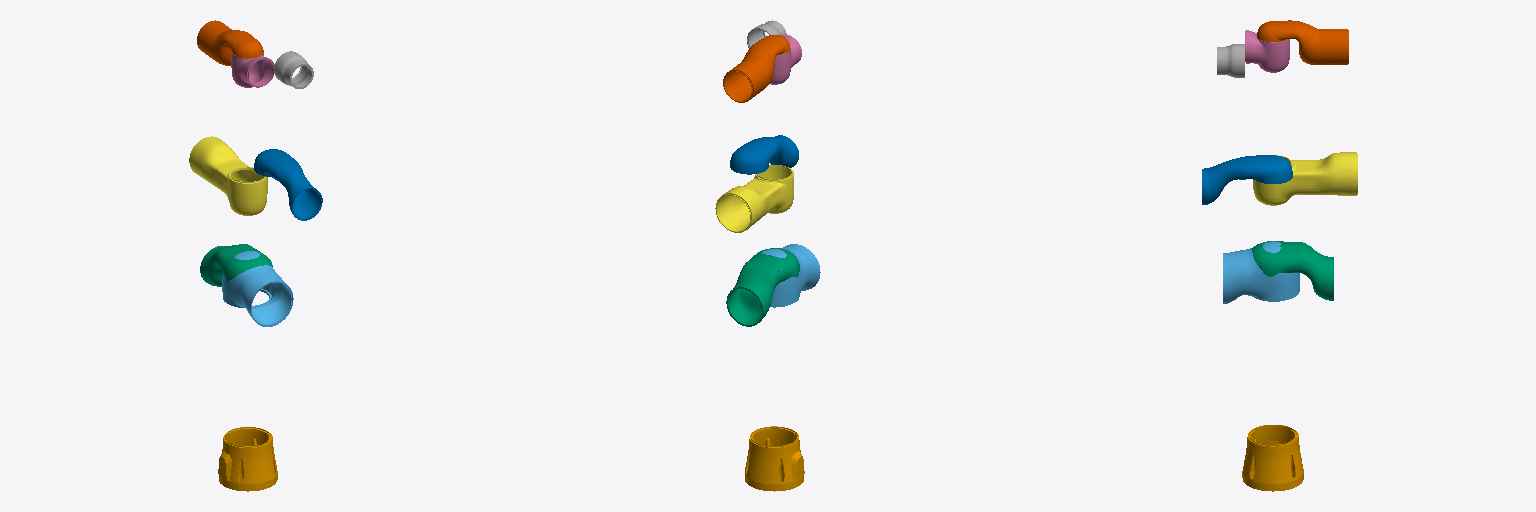
The robot description file, URDF, robot "panda":
<?xml version="1.0" ?>
<!-- =================================================================================== -->
<!-- |    This document was autogenerated by xacro from /opt/ros/kinetic/share/moveit_resources/panda_description/urdf/panda.urdf | -->
<!-- |    EDITING THIS FILE BY HAND IS NOT RECOMMENDED                                 | -->
<!-- =================================================================================== -->
<robot name="panda" xmlns:xacro="http://www.ros.org/wiki/xacro">
    <link name="panda_link0">
        <visual>
            <geometry>
                <mesh filename="package://moveit_resources_panda_description/meshes/visual/link0.dae" />
            </geometry>
        </visual>
        <collision>
            <geometry>
                <mesh filename="package://moveit_resources_panda_description/meshes/collision/link0.stl" />
            </geometry>
        </collision>
    </link>
    <link name="panda_link1">
        <visual>
            <geometry>
                <mesh filename="package://moveit_resources_panda_description/meshes/visual/link1.dae" />
            </geometry>
        </visual>
        <collision>
            <geometry>
                <mesh filename="package://moveit_resources_panda_description/meshes/collision/link1.stl" />
            </geometry>
        </collision>
    </link>
    <joint name="panda_joint1" type="revolute">
        <safety_controller k_position="100.0" k_velocity="40.0" soft_lower_limit="-2.8973" soft_upper_limit="2.8973" />
        <origin rpy="0 0 0" xyz="0 0 0.333" />
        <parent link="panda_link0" />
        <child link="panda_link1" />
        <axis xyz="0 0 1" />
        <limit effort="87" lower="-2.9671" upper="2.9671" velocity="2.3925" />
    </joint>
    <link name="panda_link2">
        <visual>
            <geometry>
                <mesh filename="package://moveit_resources_panda_description/meshes/visual/link2.dae" />
            </geometry>
        </visual>
        <collision>
            <geometry>
                <mesh filename="package://moveit_resources_panda_description/meshes/collision/link2.stl" />
            </geometry>
        </collision>
    </link>
    <joint name="panda_joint2" type="revolute">
        <safety_controller k_position="100.0" k_velocity="40.0" soft_lower_limit="-1.7628" soft_upper_limit="1.7628" />
        <origin rpy="-1.57079632679 0 0" xyz="0 0 0" />
        <parent link="panda_link1" />
        <child link="panda_link2" />
        <axis xyz="0 0 1" />
        <limit effort="87" lower="-1.8326" upper="1.8326" velocity="2.3925" />
    </joint>
    <link name="panda_link3">
        <visual>
            <geometry>
                <mesh filename="package://moveit_resources_panda_description/meshes/visual/link3.dae" />
            </geometry>
        </visual>
        <collision>
            <geometry>
                <mesh filename="package://moveit_resources_panda_description/meshes/collision/link3.stl" />
            </geometry>
        </collision>
    </link>
    <joint name="panda_joint3" type="revolute">
        <safety_controller k_position="100.0" k_velocity="40.0" soft_lower_limit="-2.8973" soft_upper_limit="2.8973" />
        <origin rpy="1.57079632679 0 0" xyz="0 -0.316 0" />
        <parent link="panda_link2" />
        <child link="panda_link3" />
        <axis xyz="0 0 1" />
        <limit effort="87" lower="-2.9671" upper="2.9671" velocity="2.3925" />
    </joint>
    <link name="panda_link4">
        <visual>
            <geometry>
                <mesh filename="package://moveit_resources_panda_description/meshes/visual/link4.dae" />
            </geometry>
        </visual>
        <collision>
            <geometry>
                <mesh filename="package://moveit_resources_panda_description/meshes/collision/link4.stl" />
            </geometry>
        </collision>
    </link>
    <joint name="panda_joint4" type="revolute">
        <safety_controller k_position="100.0" k_velocity="40.0" soft_lower_limit="-3.0718" soft_upper_limit="0.0175" />
        <origin rpy="1.57079632679 0 0" xyz="0.0825 0 0" />
        <parent link="panda_link3" />
        <child link="panda_link4" />
        <axis xyz="0 0 1" />
        <limit effort="87" lower="-3.1416" upper="0.0873" velocity="2.3925" />
    </joint>
    <link name="panda_link5">
        <visual>
            <geometry>
                <mesh filename="package://moveit_resources_panda_description/meshes/visual/link5.dae" />
            </geometry>
        </visual>
        <collision>
            <geometry>
                <mesh filename="package://moveit_resources_panda_description/meshes/collision/link5.stl" />
            </geometry>
        </collision>
    </link>
    <joint name="panda_joint5" type="revolute">
        <safety_controller k_position="100.0" k_velocity="40.0" soft_lower_limit="-2.8973" soft_upper_limit="2.8973" />
        <origin rpy="-1.57079632679 0 0" xyz="-0.0825 0.384 0" />
        <parent link="panda_link4" />
        <child link="panda_link5" />
        <axis xyz="0 0 1" />
        <limit effort="12" lower="-2.9671" upper="2.9671" velocity="2.8710" />
    </joint>
    <link name="panda_link6">
        <visual>
            <geometry>
                <mesh filename="package://moveit_resources_panda_description/meshes/visual/link6.dae" />
            </geometry>
        </visual>
        <collision>
            <geometry>
                <mesh filename="package://moveit_resources_panda_description/meshes/collision/link6.stl" />
            </geometry>
        </collision>
    </link>
    <joint name="panda_joint6" type="revolute">
        <safety_controller k_position="100.0" k_velocity="40.0" soft_lower_limit="-0.0175" soft_upper_limit="3.7525" />
        <origin rpy="1.57079632679 0 0" xyz="0 0 0" />
        <parent link="panda_link5" />
        <child link="panda_link6" />
        <axis xyz="0 0 1" />
        <limit effort="12" lower="-0.0873" upper="3.8223" velocity="2.8710" />
    </joint>
    <link name="panda_link7">
        <visual>
            <geometry>
                <mesh filename="package://moveit_resources_panda_description/meshes/visual/link7.dae" />
            </geometry>
        </visual>
        <collision>
            <geometry>
                <mesh filename="package://moveit_resources_panda_description/meshes/collision/link7.stl" />
            </geometry>
        </collision>
    </link>
    <joint name="panda_joint7" type="revolute">
        <safety_controller k_position="100.0" k_velocity="40.0" soft_lower_limit="-2.8973" soft_upper_limit="2.8973" />
        <origin rpy="1.57079632679 0 0" xyz="0.088 0 0" />
        <parent link="panda_link6" />
        <child link="panda_link7" />
        <axis xyz="0 0 1" />
        <limit effort="12" lower="-2.9671" upper="2.9671" velocity="2.8710" />
    </joint>
    <link name="panda_link8" />
    <joint name="panda_joint8" type="fixed">
        <origin rpy="0 0 0" xyz="0 0 0.107" />
        <parent link="panda_link7" />
        <child link="panda_link8" />
        <axis xyz="0 0 0" />
    </joint>
    <joint name="panda_hand_joint" type="fixed">
        <parent link="panda_link8" />
        <child link="panda_hand" />
        <origin rpy="0 0 -0.785398163397" xyz="0 0 0" />
    </joint>
    <link name="panda_hand">
        <visual>
            <geometry>
                <mesh filename="package://moveit_resources_panda_description/meshes/visual/hand.dae" />
            </geometry>
        </visual>
        <collision>
            <geometry>
                <mesh filename="package://moveit_resources_panda_description/meshes/collision/hand.stl" />
            </geometry>
        </collision>
    </link>
    <link name="panda_leftfinger">
        <visual>
            <geometry>
                <mesh filename="package://moveit_resources_panda_description/meshes/visual/finger.dae" />
            </geometry>
        </visual>
        <collision>
            <geometry>
                <mesh filename="package://moveit_resources_panda_description/meshes/collision/finger.stl" />
            </geometry>
        </collision>
    </link>
    <link name="panda_rightfinger">
        <visual>
            <origin rpy="0 0 3.14159265359" xyz="0 0 0" />
            <geometry>
                <mesh filename="package://moveit_resources_panda_description/meshes/visual/finger.dae" />
            </geometry>
        </visual>
        <collision>
            <origin rpy="0 0 3.14159265359" xyz="0 0 0" />
            <geometry>
                <mesh filename="package://moveit_resources_panda_description/meshes/collision/finger.stl" />
            </geometry>
        </collision>
    </link>
    <joint name="panda_finger_joint1" type="prismatic">
        <parent link="panda_hand" />
        <child link="panda_leftfinger" />
        <origin rpy="0 0 0" xyz="0 0 0.0584" />
        <axis xyz="0 1 0" />
        <limit effort="20" lower="0.0" upper="0.04" velocity="0.2" />
    </joint>
    <joint name="panda_finger_joint2" type="prismatic">
        <parent link="panda_hand" />
        <child link="panda_rightfinger" />
        <origin rpy="0 0 0" xyz="0 0 0.0584" />
        <axis xyz="0 -1 0" />
        <limit effort="20" lower="0.0" upper="0.04" velocity="0.2" />
        <mimic joint="panda_finger_joint1" />
    </joint>
</robot>

--- Facts derived from the render (not from the file) ---
Views: 3 orthographic renders of the robot side by side, from view 1: azimuth 30°, elevation 25°; view 2: azimuth 150°, elevation 25°; view 3: azimuth 270°, elevation 25°.
Robot: panda — 12 links, 11 joints (7 revolute, 2 prismatic, 2 fixed); root link panda_link0; default pose: all joints at 0.
Links seen in each view (by area): view 1: panda_link3, panda_link0, panda_link1, panda_link4, panda_link5, panda_link2, panda_link6, panda_link7; view 2: panda_link3, panda_link0, panda_link2, panda_link5, panda_link4, panda_link1, panda_link6; view 3: panda_link0, panda_link3, panda_link1, panda_link5, panda_link2, panda_link4, panda_link6, panda_link7.
Boxes of the visible links, x1,y1,x2,y2 form: panda_link3: (189, 136, 267, 215); panda_link0: (218, 427, 277, 491); panda_link1: (222, 251, 293, 326); panda_link4: (254, 149, 322, 220); panda_link5: (197, 20, 263, 65); panda_link2: (200, 244, 272, 286); panda_link6: (231, 53, 274, 87); panda_link7: (274, 51, 313, 88); panda_link3: (715, 165, 793, 232); panda_link0: (745, 426, 804, 491); panda_link2: (726, 248, 799, 326); panda_link5: (723, 35, 790, 102); panda_link4: (730, 135, 798, 174); panda_link1: (762, 244, 820, 307); panda_link6: (770, 35, 801, 84); panda_link0: (1242, 425, 1303, 491); panda_link3: (1253, 152, 1357, 205); panda_link1: (1223, 241, 1299, 303); panda_link5: (1257, 20, 1348, 64); panda_link2: (1252, 241, 1333, 300); panda_link4: (1202, 155, 1292, 204); panda_link6: (1245, 30, 1289, 72); panda_link7: (1217, 44, 1244, 77).
Bounding box of the posed robot: 0.2213 × 0.4272 × 1.38 m (x, y, z).
Meshes: 10 distinct files referenced, 8 mesh visuals loaded (8 Collada DAE); not drawn: 3 (reference not matched to a file when rendering).